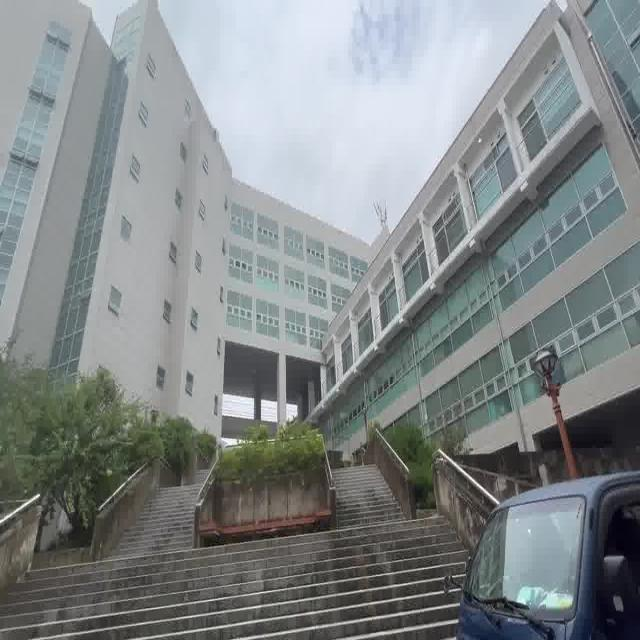building: (132, 83, 507, 429)
